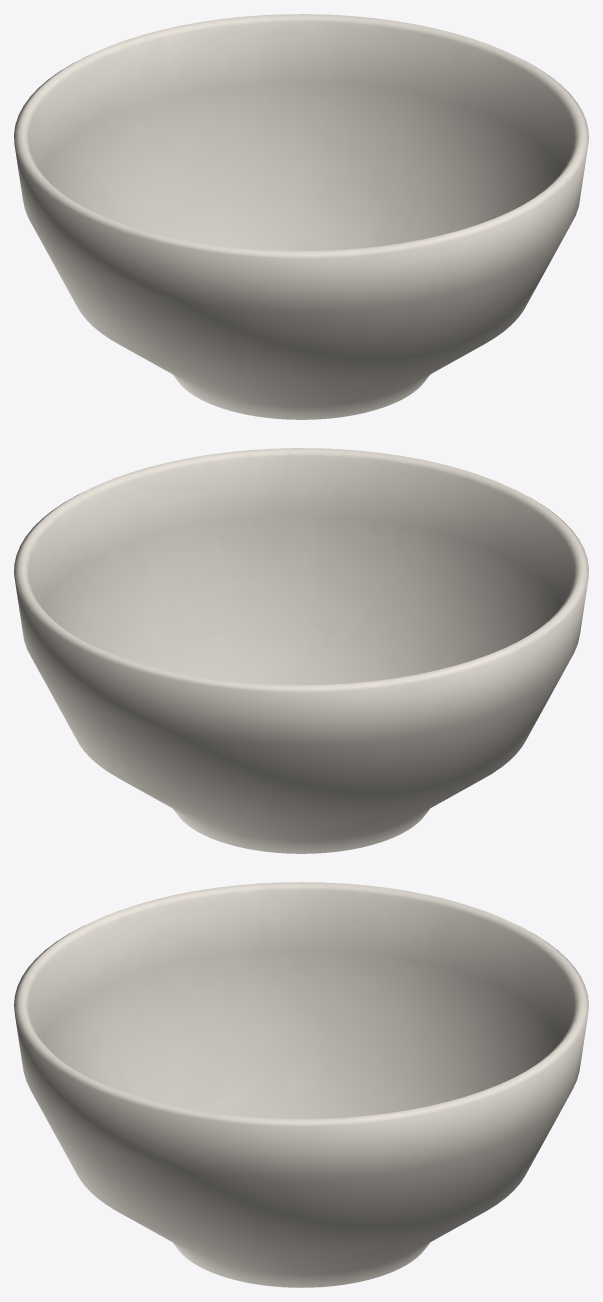
Rendered from cereal-white.glb.
3 views of the same model, one above another, from view 1: azimuth 30°, elevation 25°; view 2: azimuth 150°, elevation 25°; view 3: azimuth 270°, elevation 25° (orthographic).
Visible parts, largest first — view 1: ceramic_primary; view 2: ceramic_primary; view 3: ceramic_primary.
Part boxes in pixels (box(x1,y1,x2,y2)): ceramic_primary: box(14, 14, 588, 419); ceramic_primary: box(14, 448, 588, 853); ceramic_primary: box(14, 882, 588, 1287).
Size of the model in its own units: 0.16 by 0.0714 by 0.16.
1 material, 1 textured.
